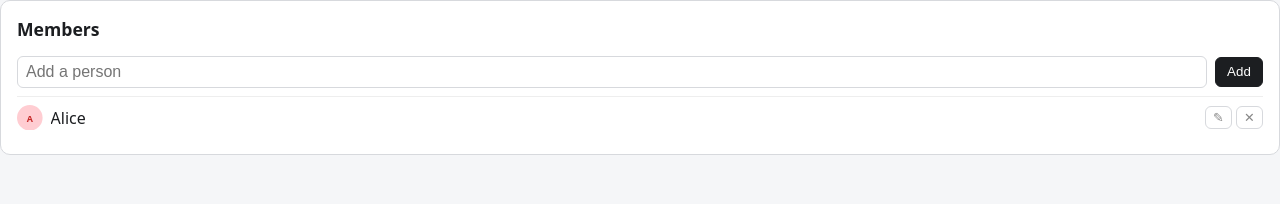
it: PeoplePanel › refuses to remove a person who is in an expense, showing a notice
Click the button named "remove alice".
click(1249, 118)  # box [1236, 106, 1263, 129]
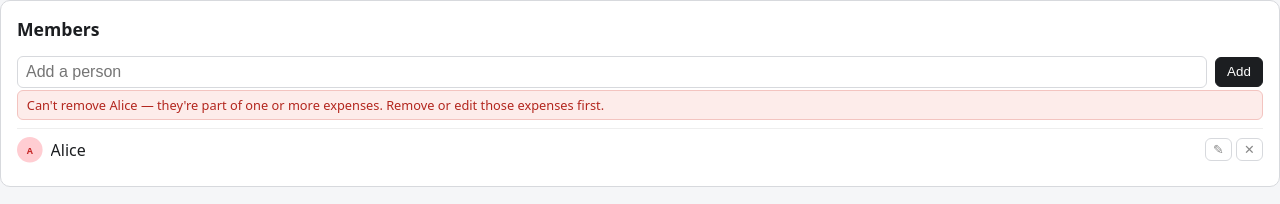
expect the text "Can't remove Alice" is shown: met, box [27, 96, 604, 114]
